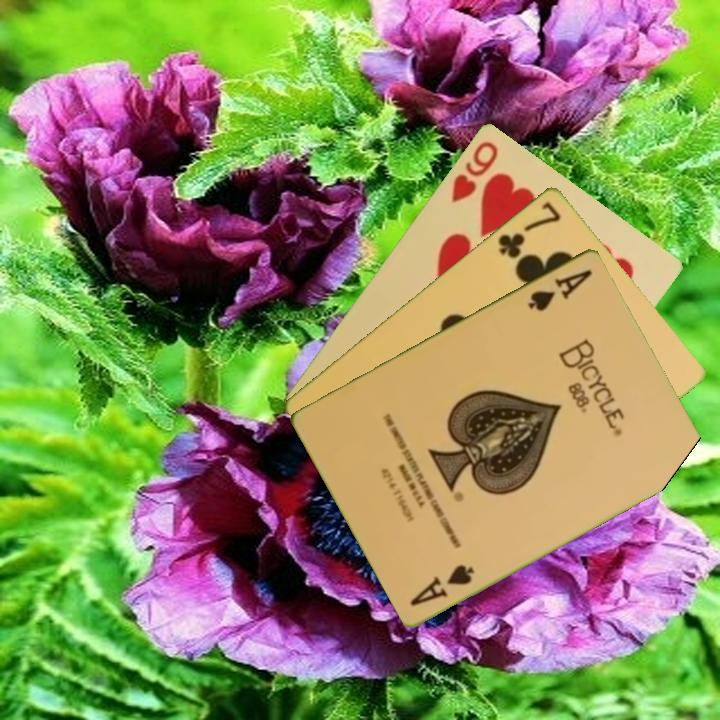7c: (494, 197, 564, 261)
9h: (447, 137, 501, 206)
As: (524, 265, 596, 314), (406, 560, 478, 609)
